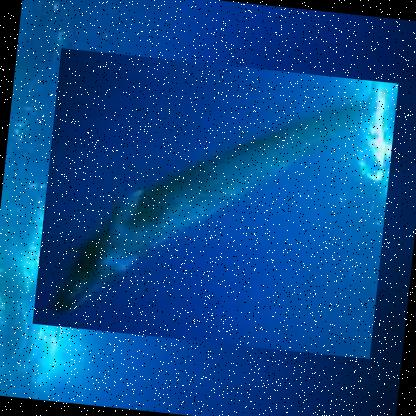blue_whale: (31, 47, 398, 360)
